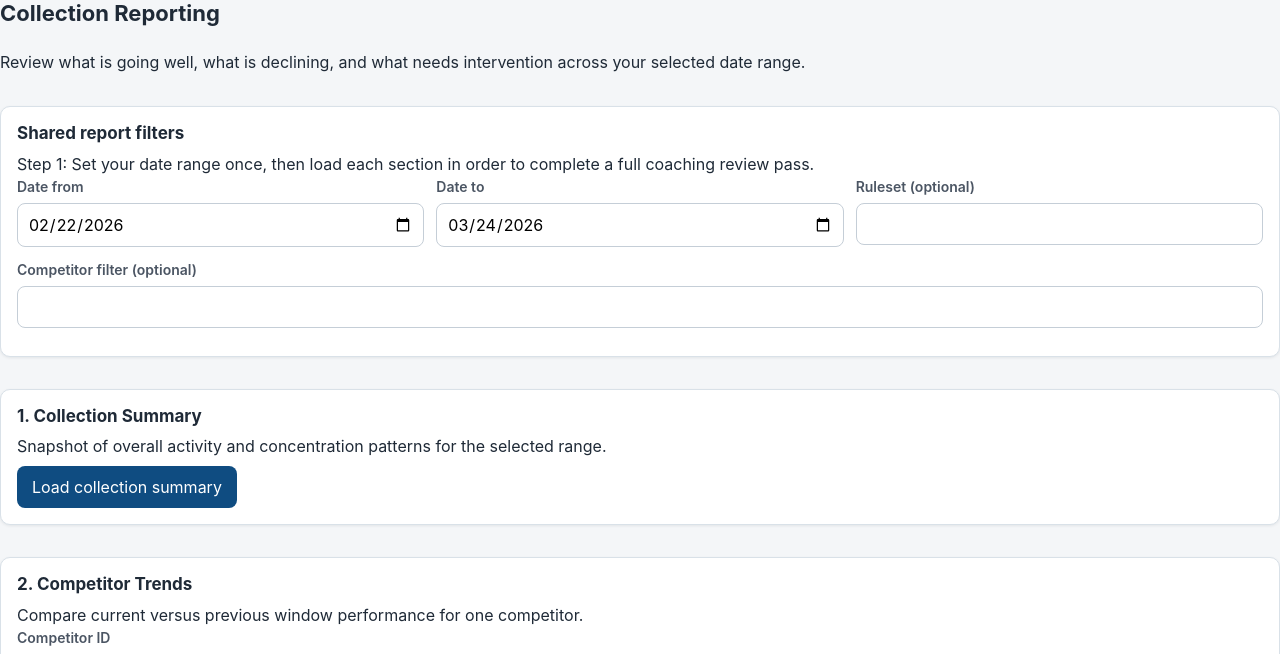
Test: ReportsPage › renders backend insights in summary, trends, and validation sections
The image size is (1280, 654).
Click the button "Load collection summary". click: (127, 487)
box: [17, 466, 237, 508]
(page scrolled)
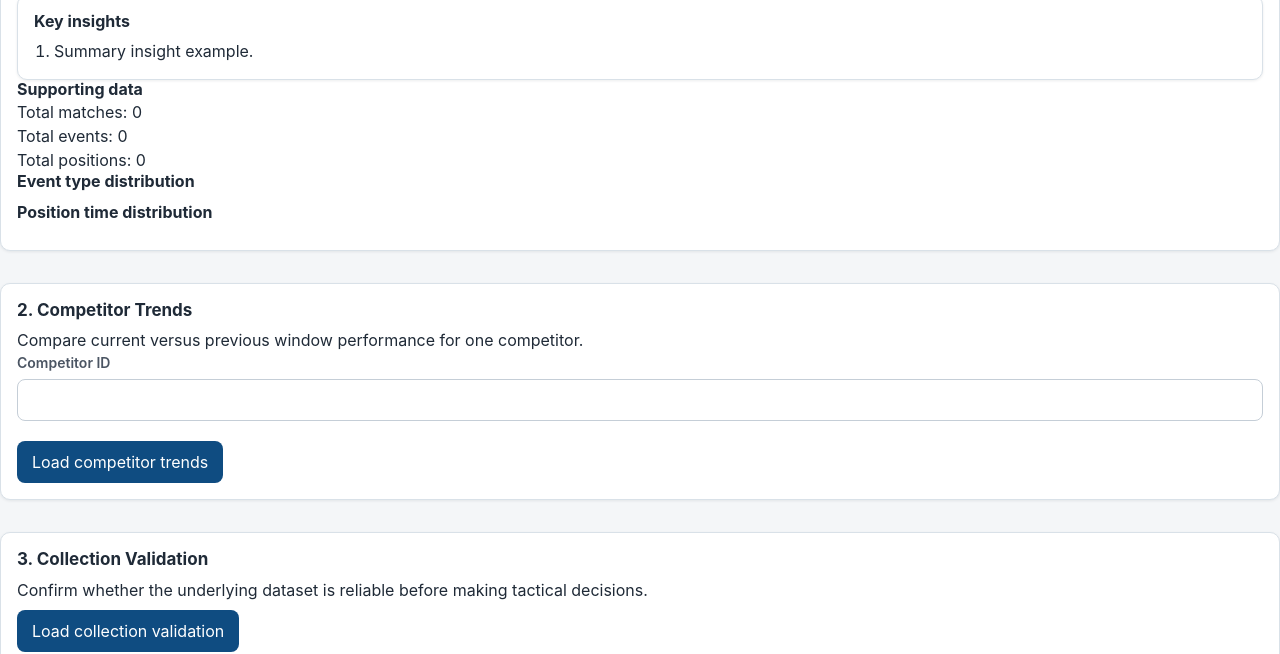
Now the list item "Summary insight example." is shown, box [54, 41, 254, 61]
Type "c-1" into the field labelled "Competitor ID". click: (640, 400)
box: [17, 379, 1263, 421]
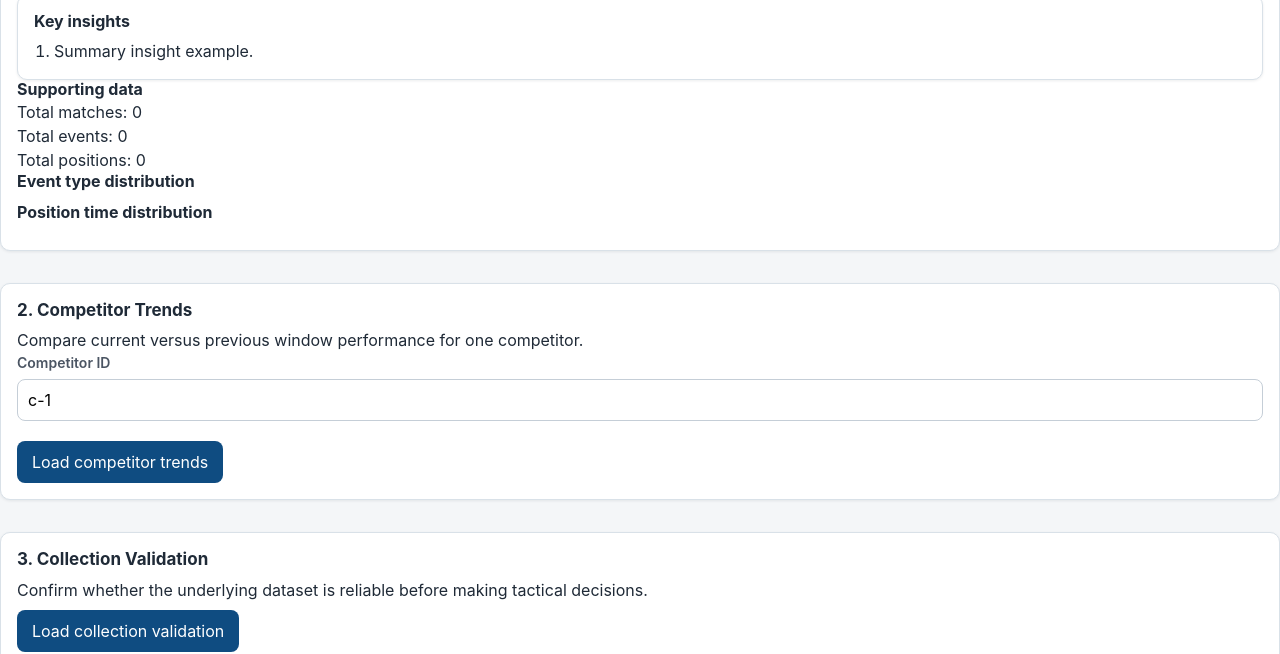
Click the button "Load competitor trends". click: (120, 462)
box: [17, 441, 223, 483]
(page scrolled)
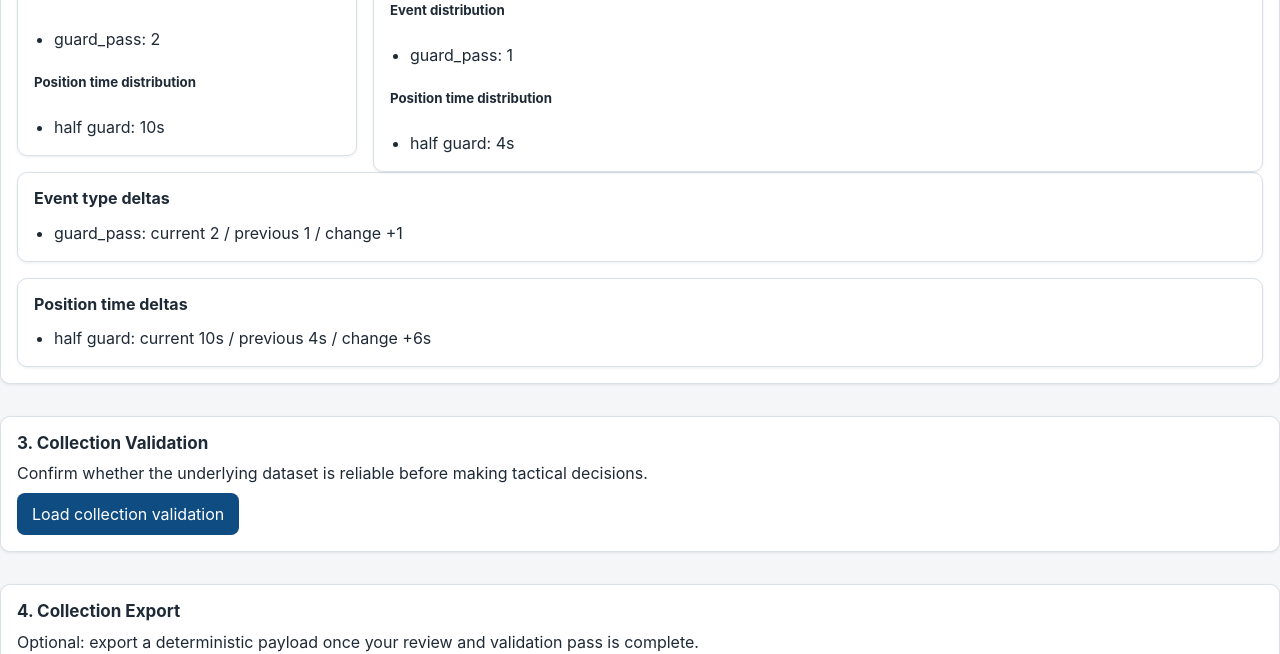
Click the button "Load collection validation". click: (128, 514)
box: [17, 493, 239, 535]
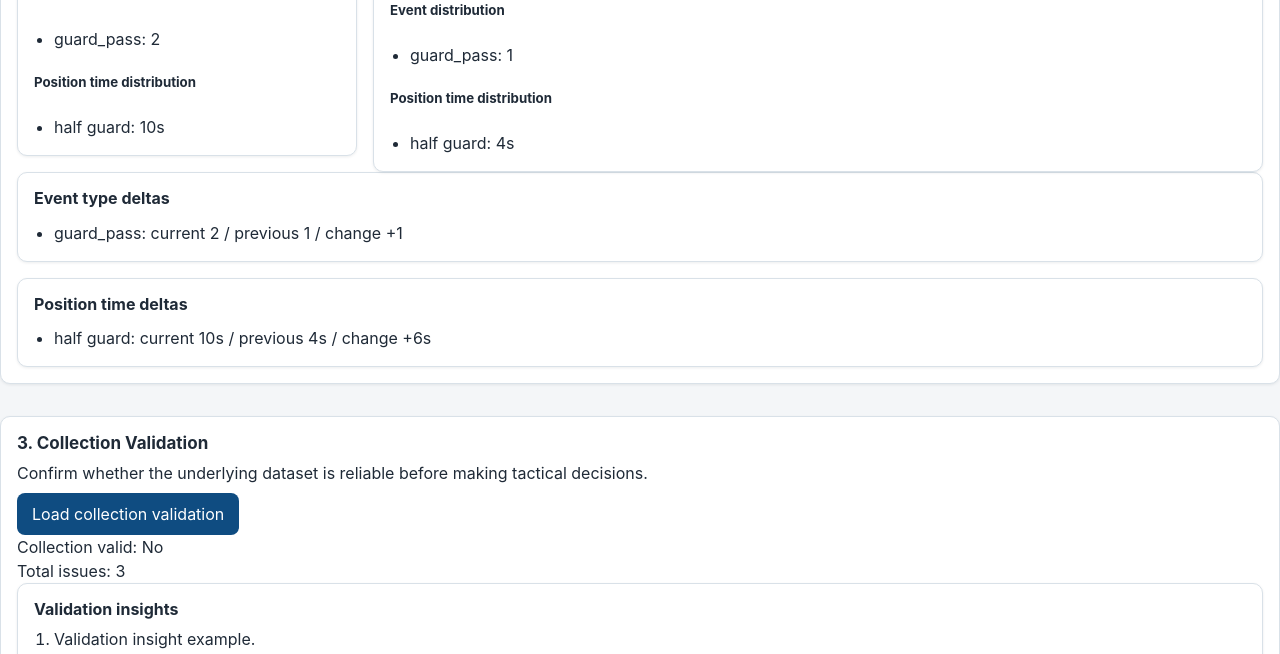
Now the list item "Validation insight example." is shown, box [54, 629, 255, 649]
